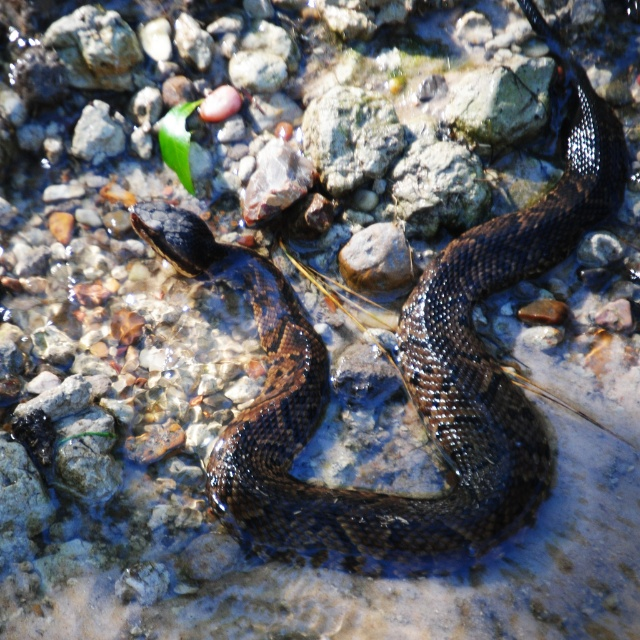Snake: (125, 0, 618, 571)
